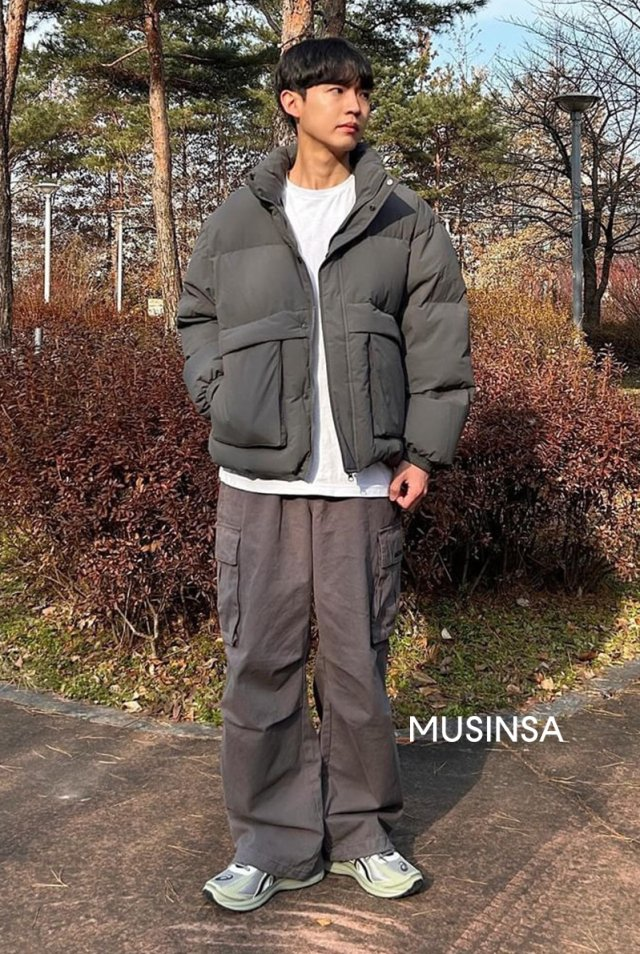Bubble jacket: (166, 134, 474, 494)
Pants: (204, 476, 404, 873)
Shoes: (192, 840, 434, 913)
